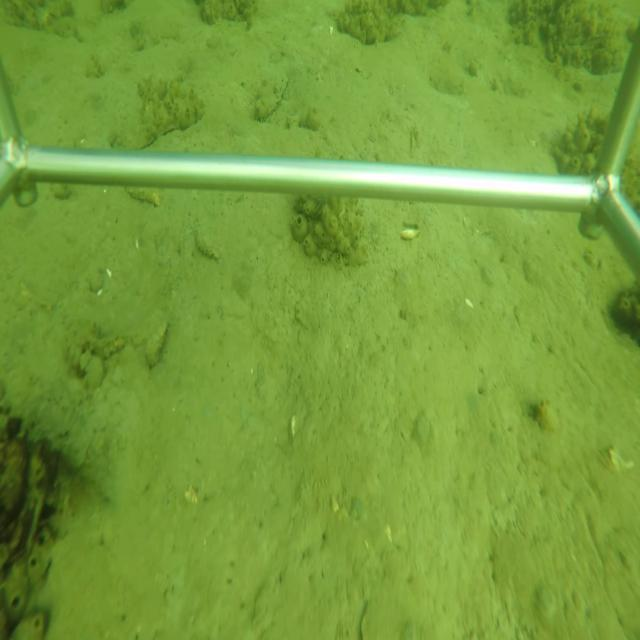Oyster-Closed: (252, 71, 292, 122)
Oyster-Indeterminate: (108, 83, 209, 151), (189, 207, 227, 264)
